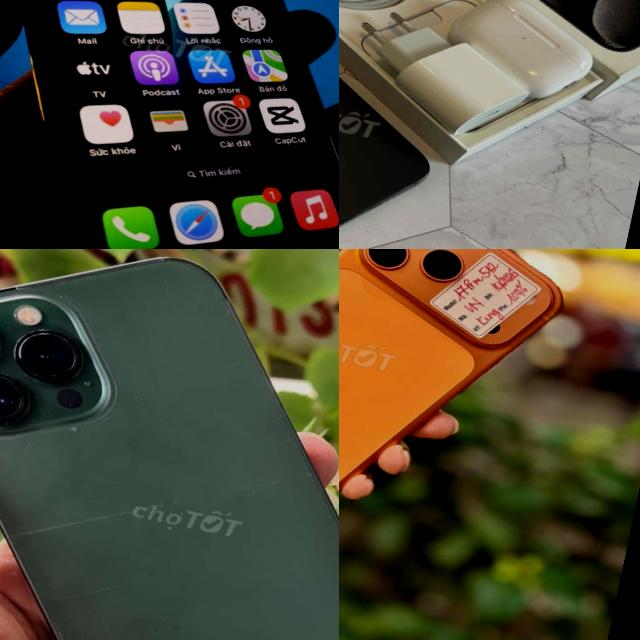gen_11: (0, 0, 339, 249)
gen_12_13: (0, 249, 339, 640)
gen_15: (339, 0, 468, 249)
gen_17: (339, 249, 586, 549)
scratch: (0, 400, 339, 640)
